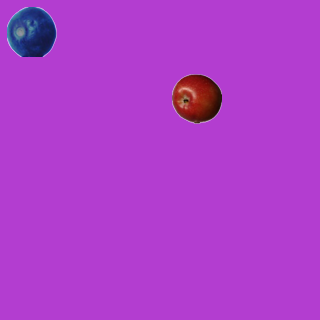Apple Braeburn: (171, 73, 221, 123)
Huckleberry: (6, 6, 56, 56)
